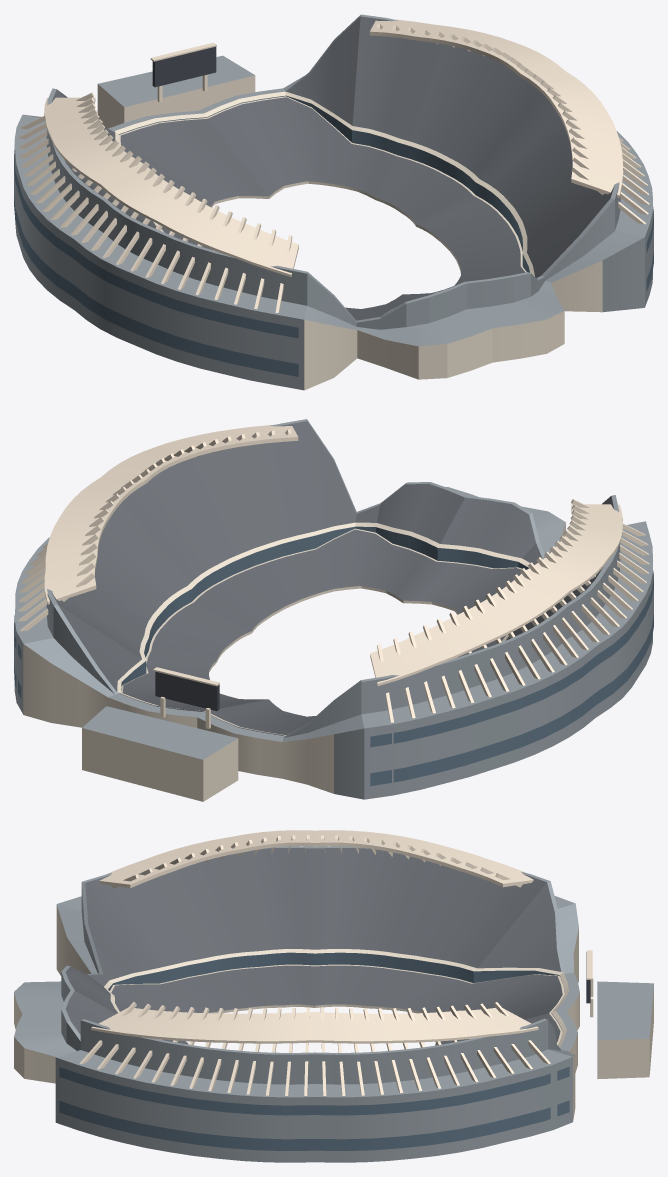
The model's file is cin-paycor-stadium.glb.
3 views of the same model, one above another, from view 1: azimuth 30°, elevation 25°; view 2: azimuth 150°, elevation 25°; view 3: azimuth 270°, elevation 25° (orthographic). The views are drawn at different scales.
Parts seen in each view (by area): view 1: Paycor Stadium; view 2: Paycor Stadium; view 3: Paycor Stadium.
Boxes of the visible parts, <box> form: Paycor Stadium: <box>14,14,653,390</box>; Paycor Stadium: <box>14,419,653,801</box>; Paycor Stadium: <box>14,830,653,1162</box>.
Bounding box in the file's own units: 255 × 62.71 × 293.
